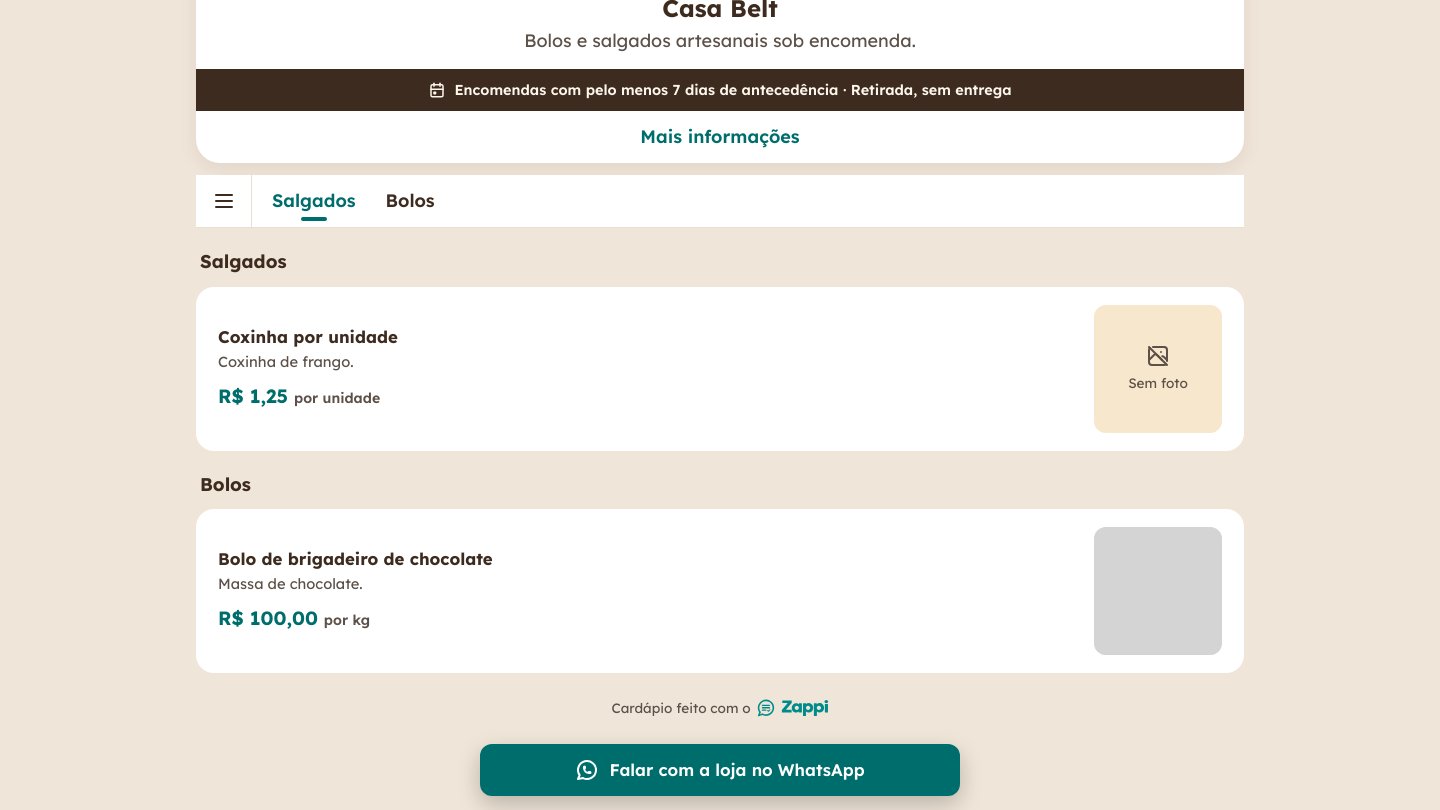
Scenario: PaginaCardapio (ZAP-105) › o produto abre na página de detalhes
(page scrolled)
Click the button "Bolo de brigadeiro de chocolate".
click(720, 591)  # box left=196, top=509, right=1244, bottom=673
(page scrolled)
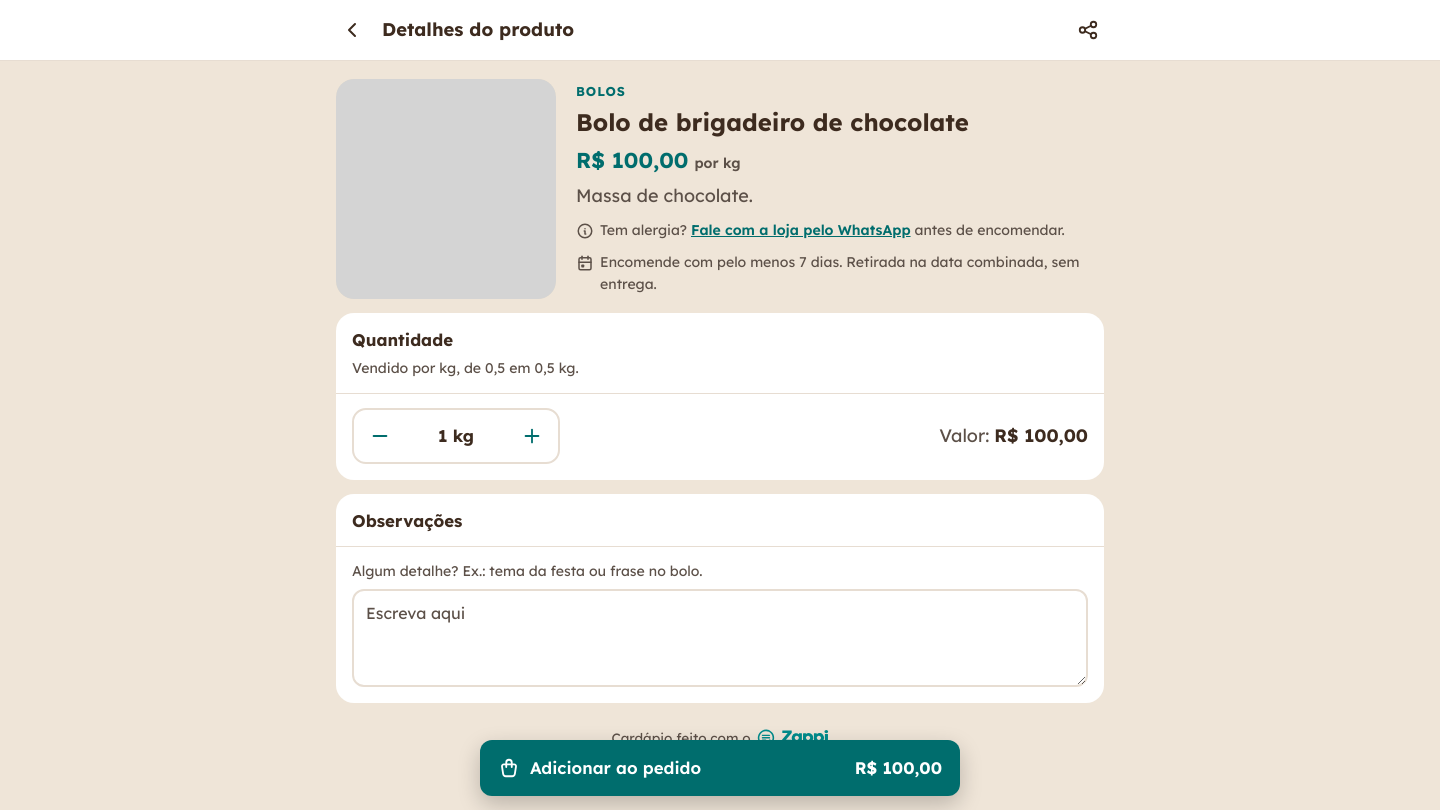
Expected: the heading "Bolo de brigadeiro de chocolate" is shown, left=576, top=107, right=969, bottom=137
Now the heading "Detalhes do produto" is shown, box left=382, top=18, right=574, bottom=41
